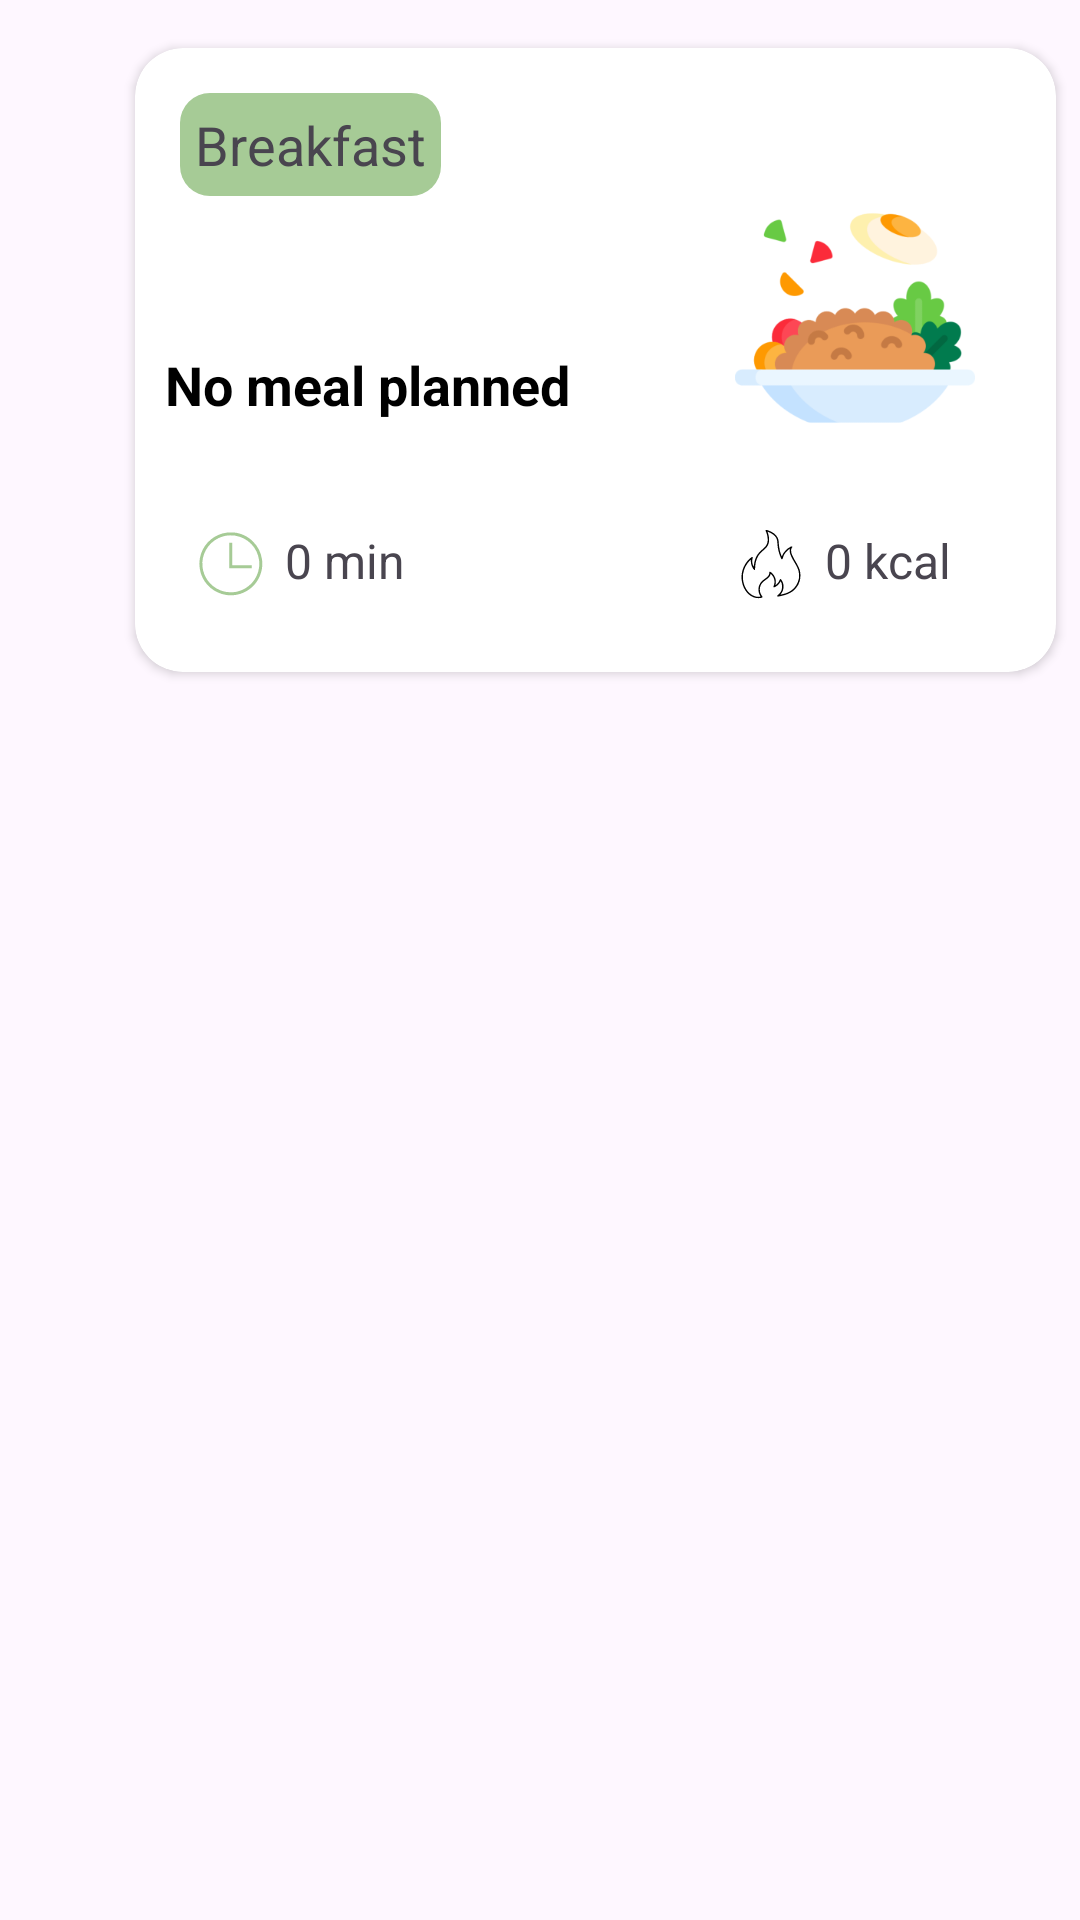

Named icons in this screenshot (1080×1920) and their centers, point (x, y):
calorie: point (771, 564)
clock: point (231, 564)
dinner: point (848, 318)
